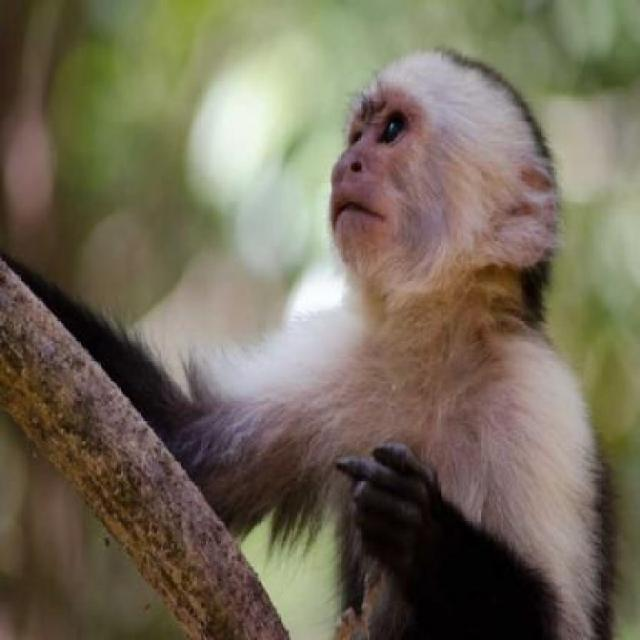Monkey: (259, 0, 615, 638)
